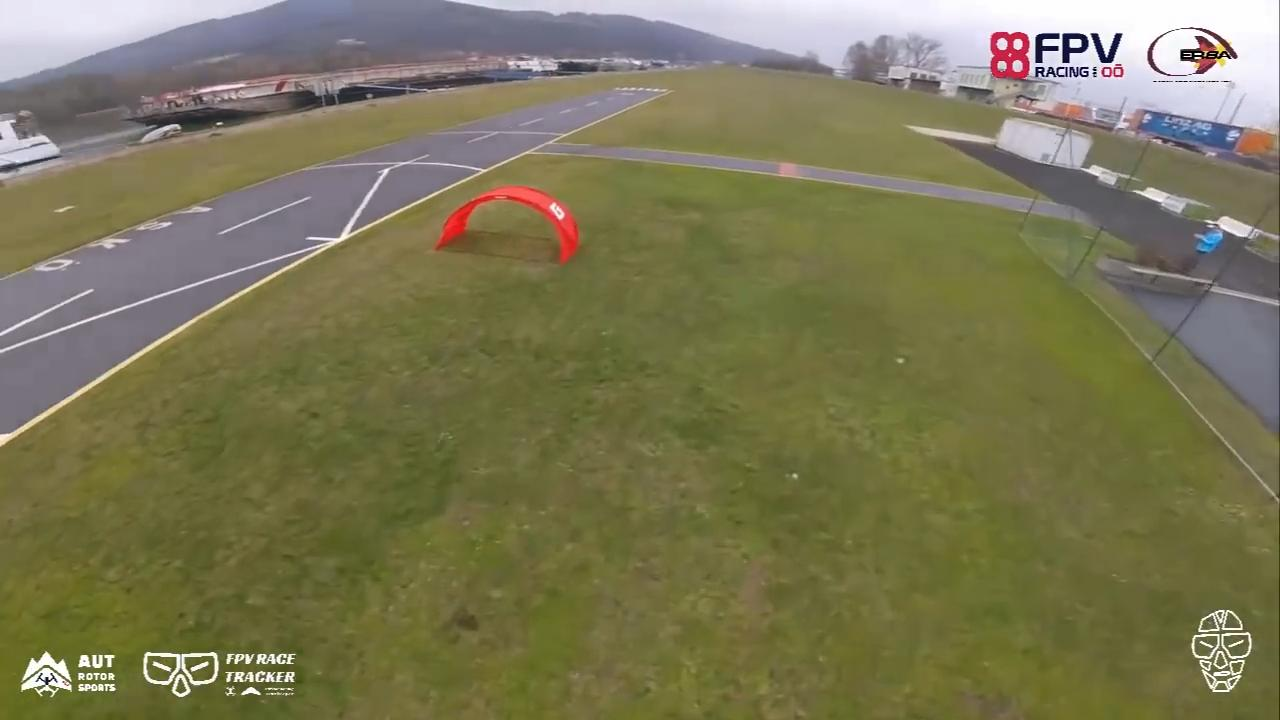gate: (434, 184, 582, 269)
